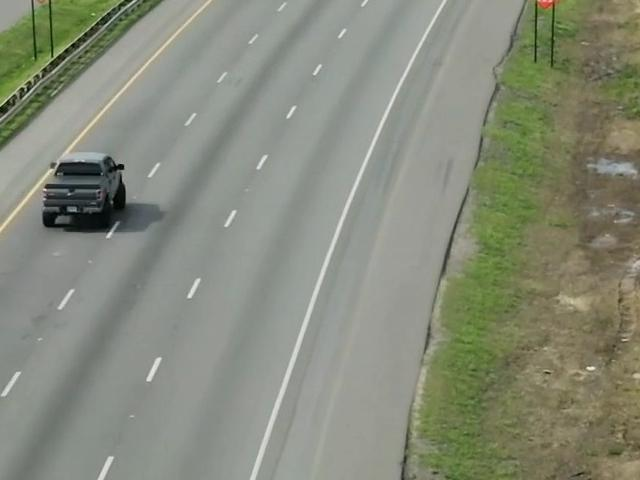pickup-truck: (44, 142, 128, 232)
